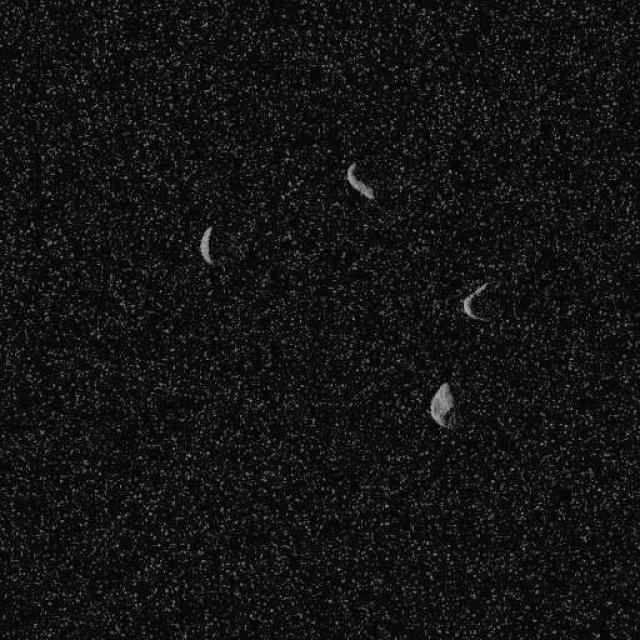D2: (427, 381, 455, 429), (344, 160, 376, 201), (461, 280, 491, 322), (197, 224, 215, 265)
